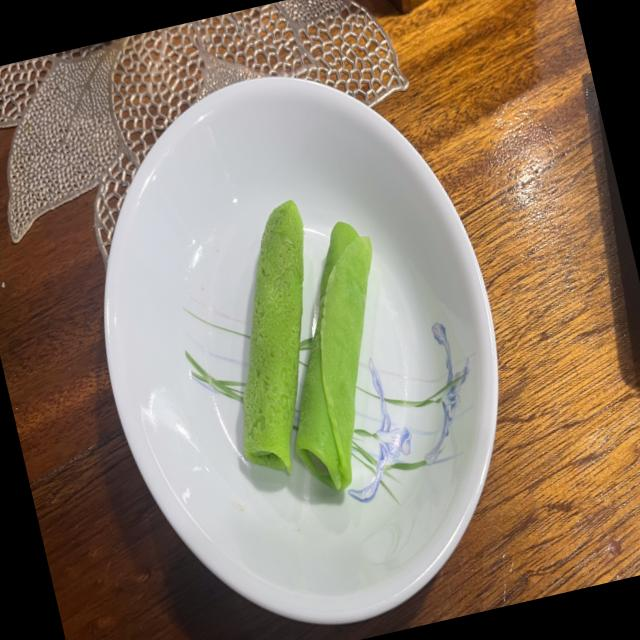Kuih-Ketayap: (296, 221, 372, 489), (243, 199, 304, 473)
